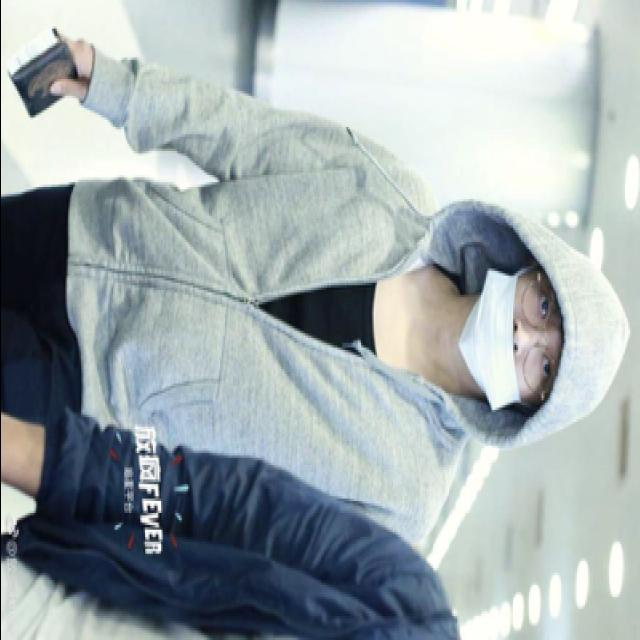mask_weared_incorrect: (459, 259, 562, 410)
